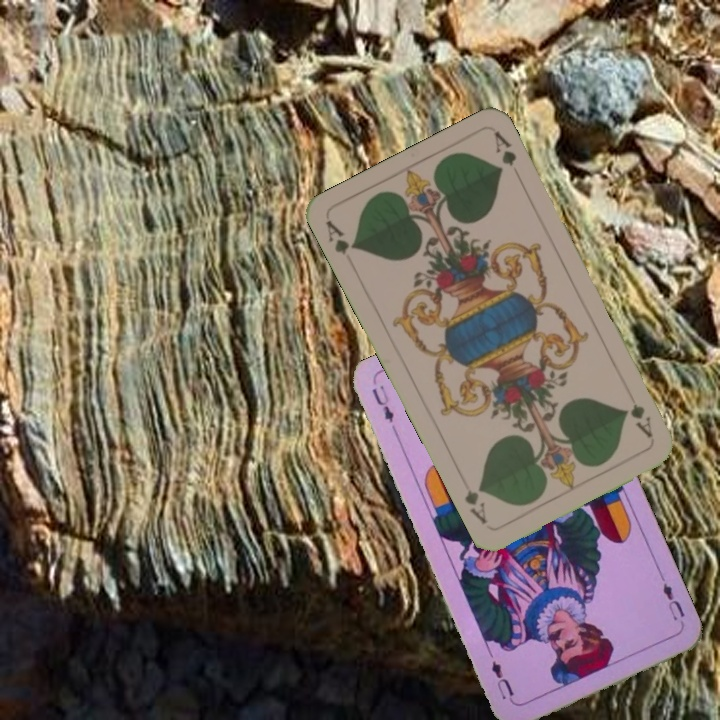EU: (657, 572, 687, 624), (368, 381, 397, 425)
GA: (622, 387, 655, 441), (322, 216, 359, 257)
